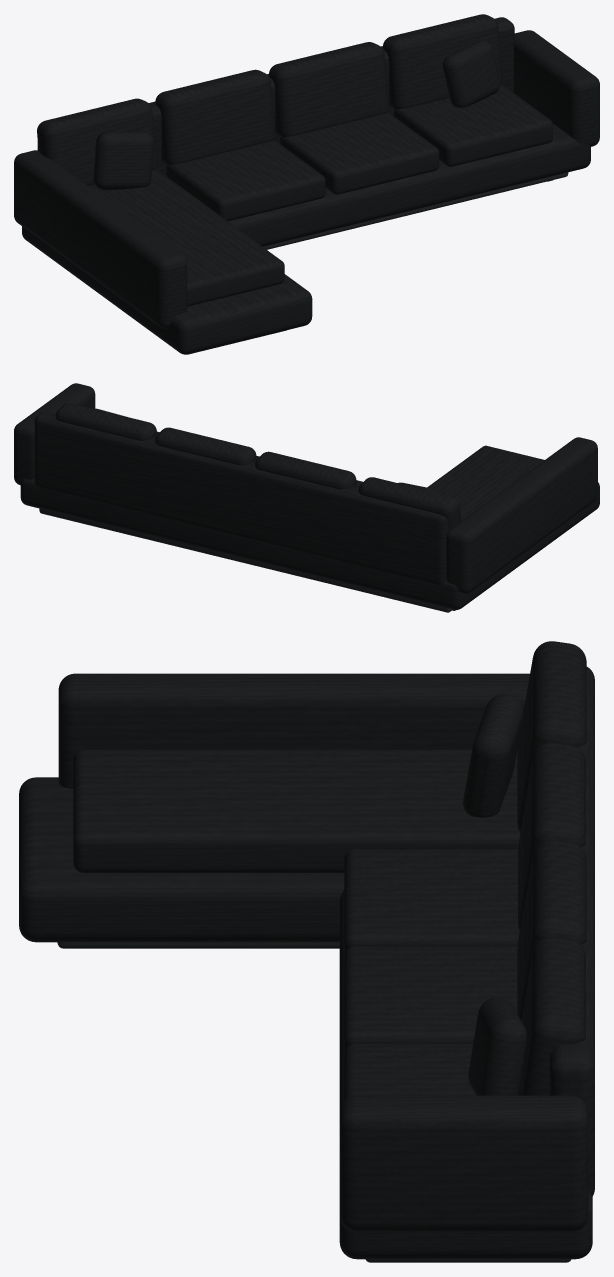
The model's file is l_sectional_sofa.glb.
3 renders of one model, top to bottom at view 1: azimuth 30°, elevation 25°; view 2: azimuth 150°, elevation 25°; view 3: azimuth 270°, elevation 25°, orthographic. The views are drawn at different scales.
Parts seen in each view (by area): view 1: Low chaise arm, Main upholstered frame, Seat cushion 1, Back cushion 3, Back cushion 2, Integrated chaise frame, Seat cushion 2, Seat cushion 3, Seat cushion 4, Low right arm, Back cushion 4, Back cushion 1 (+4 smaller); view 2: Low back frame, Low chaise arm, Main upholstered frame, Seat cushion 1, Low right arm, Back cushion 1, Main shadow plinth, Back cushion 3, Back cushion 2, Back cushion 4, Integrated chaise frame; view 3: Seat cushion 1, Low chaise arm, Low right arm, Integrated chaise frame, Seat cushion 2, Seat cushion 3, Main upholstered frame, Back cushion 4, Back cushion 1, Back cushion 3, Back cushion 2, Seat cushion 4 (+5 smaller).
Part boxes in pixels (x1,y1,x2,y2): Low chaise arm: (14, 150, 187, 328); Main upholstered frame: (22, 124, 590, 284); Seat cushion 1: (88, 169, 284, 306); Back cushion 3: (269, 42, 388, 137); Back cushion 2: (155, 69, 274, 165); Integrated chaise frame: (24, 228, 312, 354); Seat cushion 2: (166, 140, 325, 221); Seat cushion 3: (280, 112, 439, 194); Seat cushion 4: (394, 84, 552, 166); Low right arm: (514, 30, 599, 146); Back cushion 4: (383, 14, 502, 109); Back cushion 1: (37, 98, 156, 185); Low back frame: (34, 411, 448, 584); Low chaise arm: (446, 437, 597, 593); Main upholstered frame: (20, 479, 518, 609); Seat cushion 1: (427, 445, 544, 520); Low right arm: (14, 383, 95, 485); Back cushion 1: (358, 477, 461, 530); Main shadow plinth: (39, 508, 452, 612); Back cushion 3: (155, 427, 256, 465); Back cushion 2: (255, 451, 356, 489); Back cushion 4: (55, 403, 156, 440); Integrated chaise frame: (465, 482, 599, 603); Seat cushion 1: (73, 750, 520, 872); Low chaise arm: (58, 673, 529, 788); Low right arm: (339, 1095, 588, 1231); Integrated chaise frame: (19, 777, 344, 942); Seat cushion 2: (344, 849, 519, 954); Seat cushion 3: (344, 946, 517, 1052); Main upholstered frame: (339, 890, 592, 1259); Back cushion 4: (518, 937, 585, 1095); Back cushion 1: (517, 641, 586, 831); Back cushion 3: (517, 839, 586, 1020); Back cushion 2: (518, 742, 585, 931); Seat cushion 4: (344, 1044, 475, 1100).
Size of the model in its own units: 4.68 by 1.12 by 2.55.
3 materials, 1 textured.
